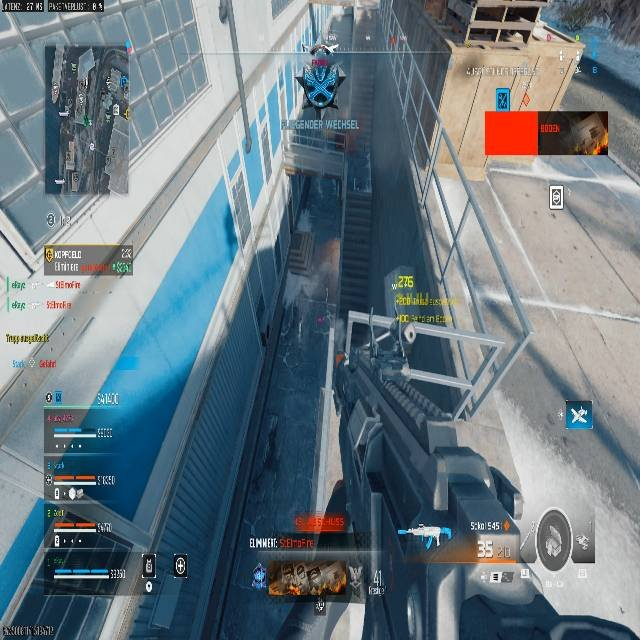head: (309, 43, 334, 58)
player: (296, 37, 347, 111)
